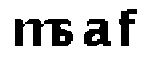6: (55, 16, 75, 52)
a: (80, 14, 112, 52)
f: (117, 6, 142, 53)
m: (9, 17, 60, 52)
